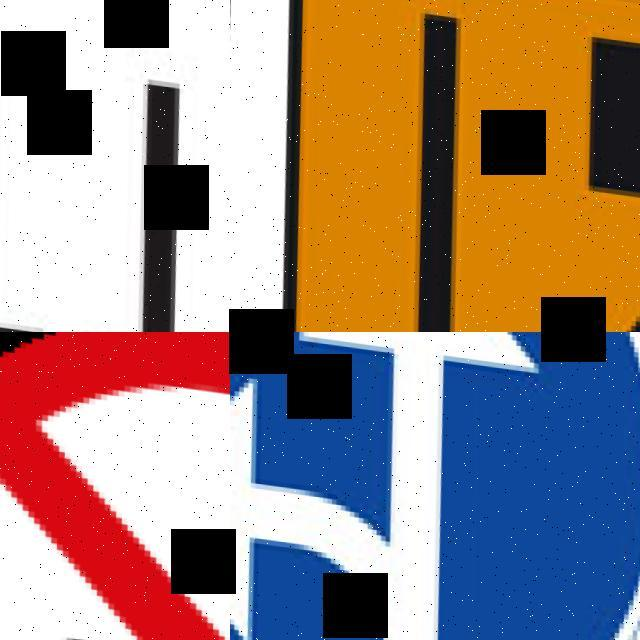63: (231, 0, 640, 332)
66: (0, 0, 230, 332)
Direction to be followed: (230, 332, 640, 640)
No entry for hand carts: (0, 332, 230, 640)
